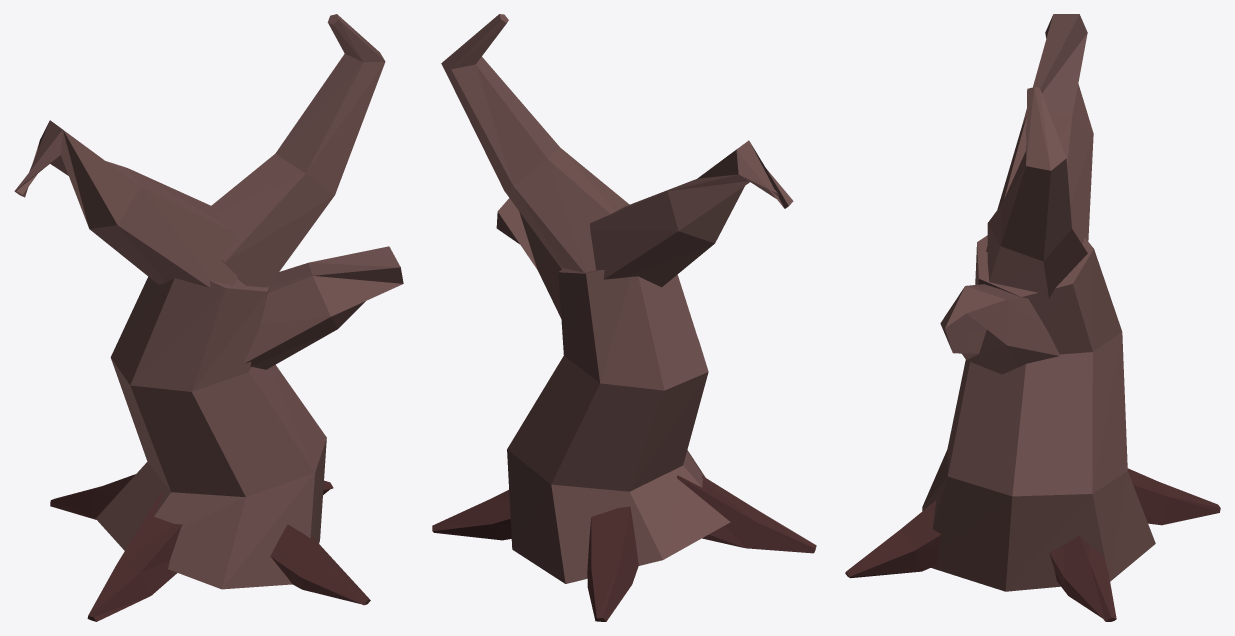
The model's file is tree_harbinger_1.obj.
3 renders of one model, left to right at view 1: azimuth 30°, elevation 25°; view 2: azimuth 150°, elevation 25°; view 3: azimuth 270°, elevation 25°, orthographic. The views are drawn at different scales.
Parts seen in each view (by area): view 1: tree_harbinger_1; view 2: tree_harbinger_1; view 3: tree_harbinger_1.
Boxes of the visible parts, box(x1,y1,x2,y2) form: tree_harbinger_1: box(14, 14, 403, 621); tree_harbinger_1: box(432, 14, 816, 621); tree_harbinger_1: box(845, 14, 1220, 621).
Size of the model in its own units: 0.7655 by 1.03 by 0.6726.
